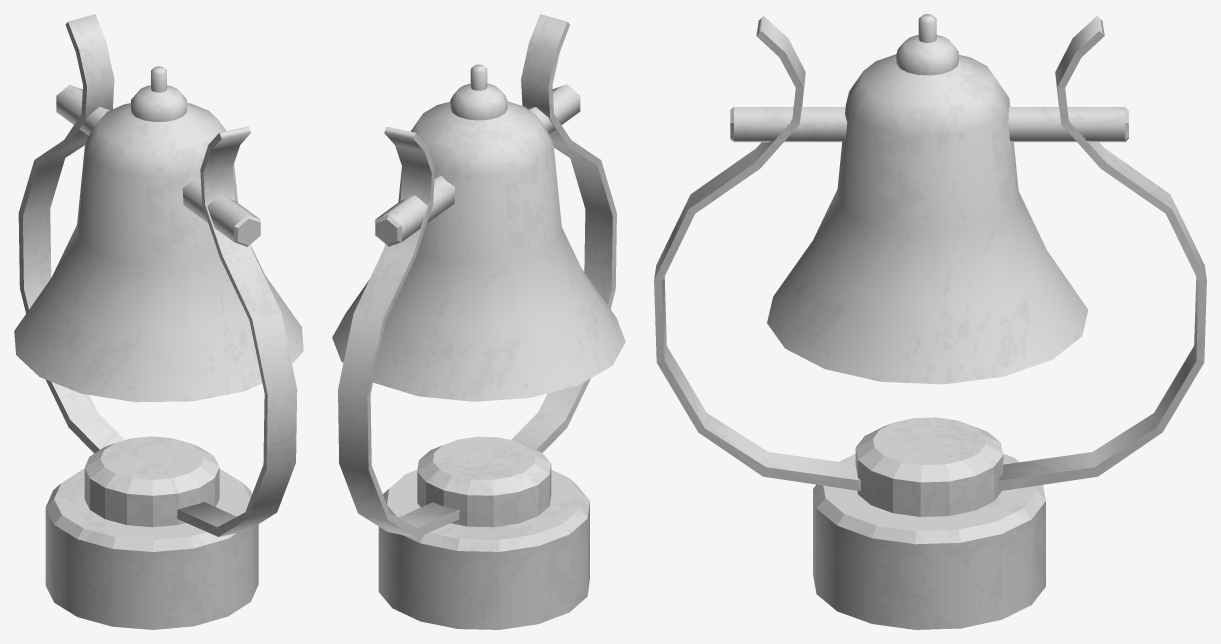
Rendered from Steam Train Body_C_001.fbx.
3 renders of one model, left to right at view 1: azimuth 30°, elevation 25°; view 2: azimuth 150°, elevation 25°; view 3: azimuth 270°, elevation 25°, orthographic. The views are drawn at different scales.
Visible parts, largest first — view 1: Steam_Train_Body_C_001; view 2: Steam_Train_Body_C_001; view 3: Steam_Train_Body_C_001.
Boxes of the visible parts, x1,y1,x2,y2 form: Steam_Train_Body_C_001: (14, 14, 303, 629); Steam_Train_Body_C_001: (332, 14, 625, 629); Steam_Train_Body_C_001: (654, 14, 1206, 629).
Size of the model in its own units: 57.96 by 113 by 99.68.
Materials: 1 (1 with a texture image).
